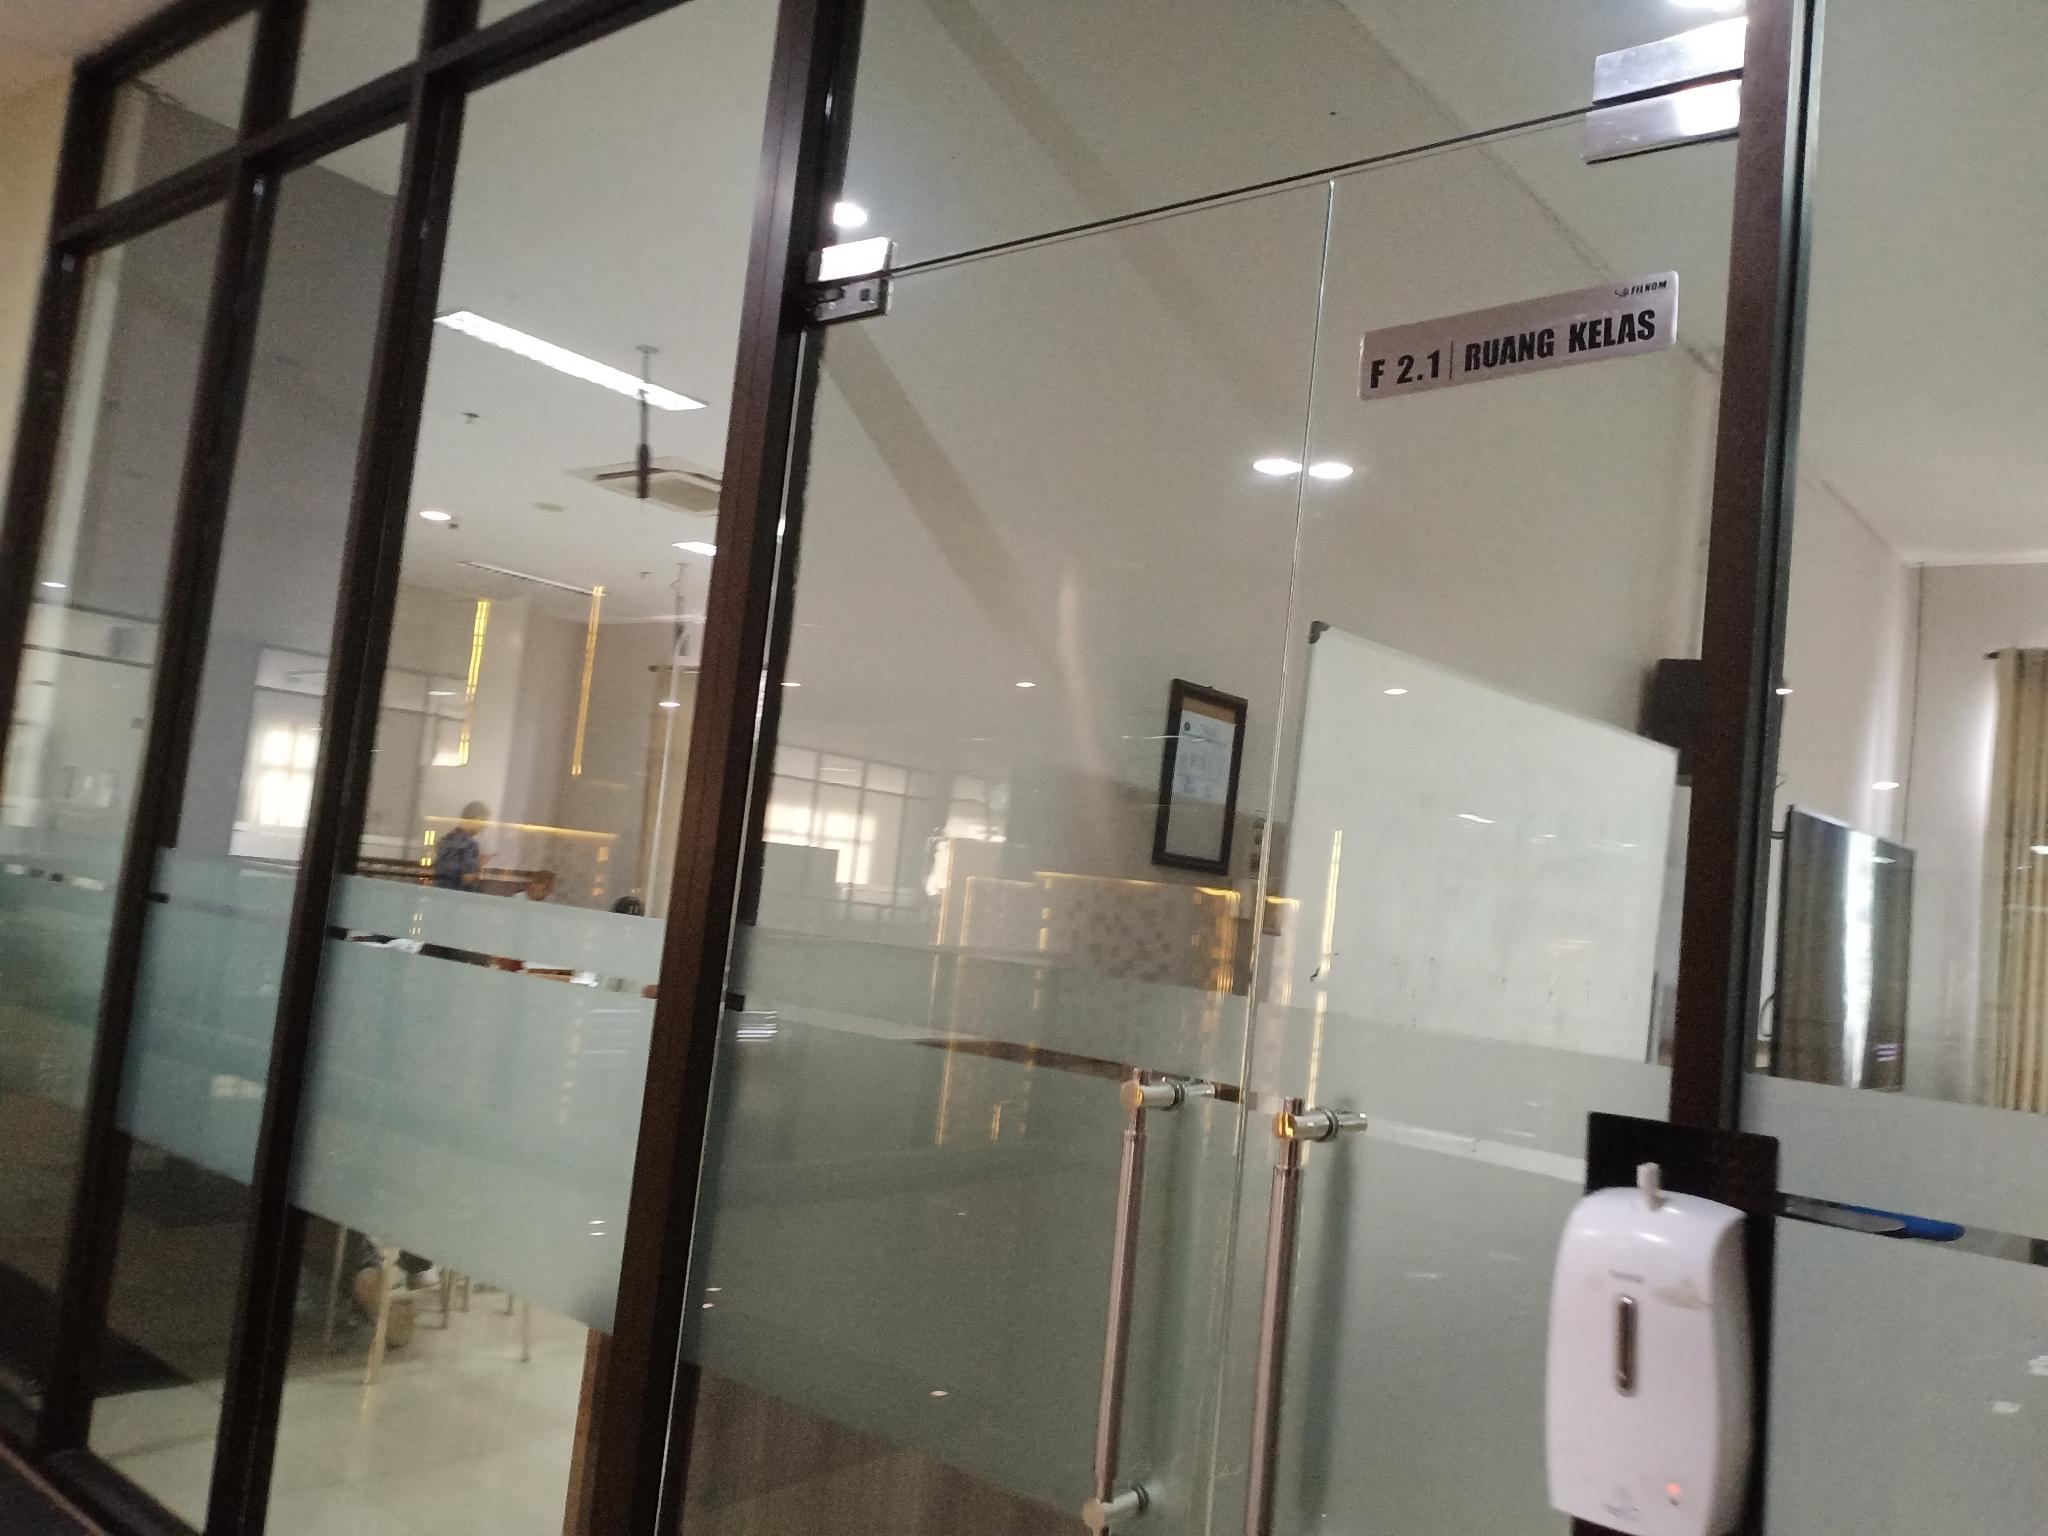plate: (1359, 271, 1679, 402)
